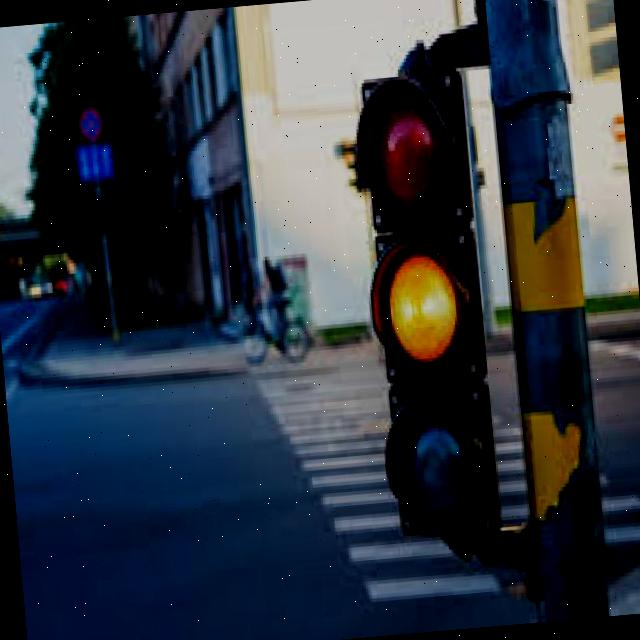yellow_light: (352, 70, 500, 539)
